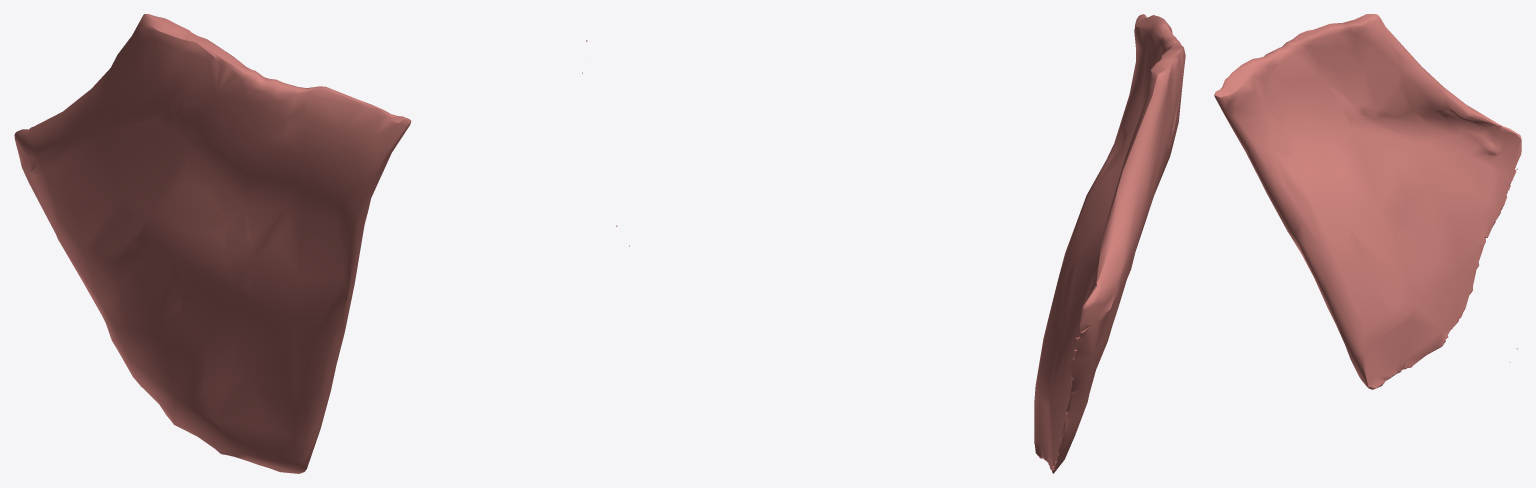
Rendered from fma13352_fj1599.glb.
The picture shows the model from 3 angles, left to right: view 1: azimuth 30°, elevation 25°; view 2: azimuth 150°, elevation 25°; view 3: azimuth 270°, elevation 25°; orthographic projection. The views are drawn at different scales.
Parts seen in each view (by area): view 1: FMA13352_FJ1599; view 2: FMA13352_FJ1599; view 3: FMA13352_FJ1599.
Boxes of the visible parts, box(x1,y1,x2,y2) form: FMA13352_FJ1599: box(14, 14, 587, 473); FMA13352_FJ1599: box(616, 14, 1185, 473); FMA13352_FJ1599: box(1214, 14, 1521, 389).
Bounding box in the file's own units: 0.0377 × 0.0309 × 0.0263.
